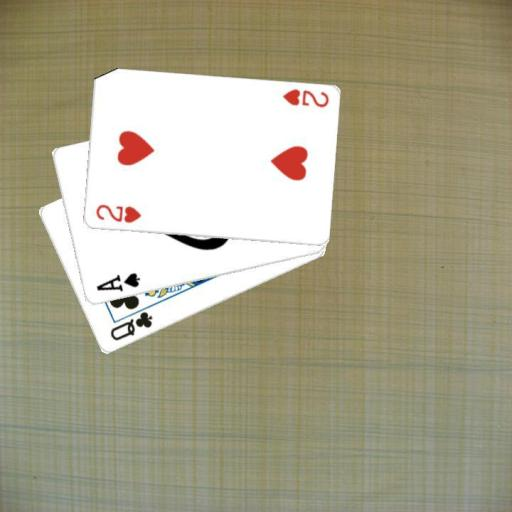2H: (279, 86, 330, 110), (92, 201, 142, 225)
AS: (93, 270, 142, 294)
QC: (107, 309, 154, 343)
